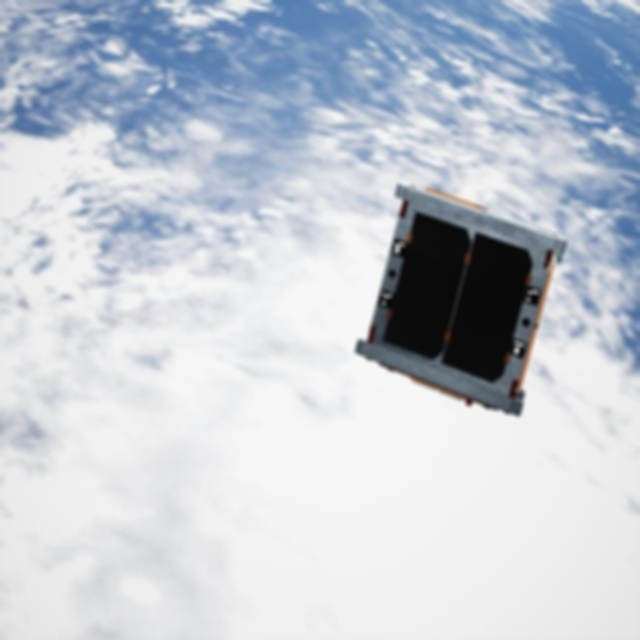medium_debris: (347, 179, 571, 420)
